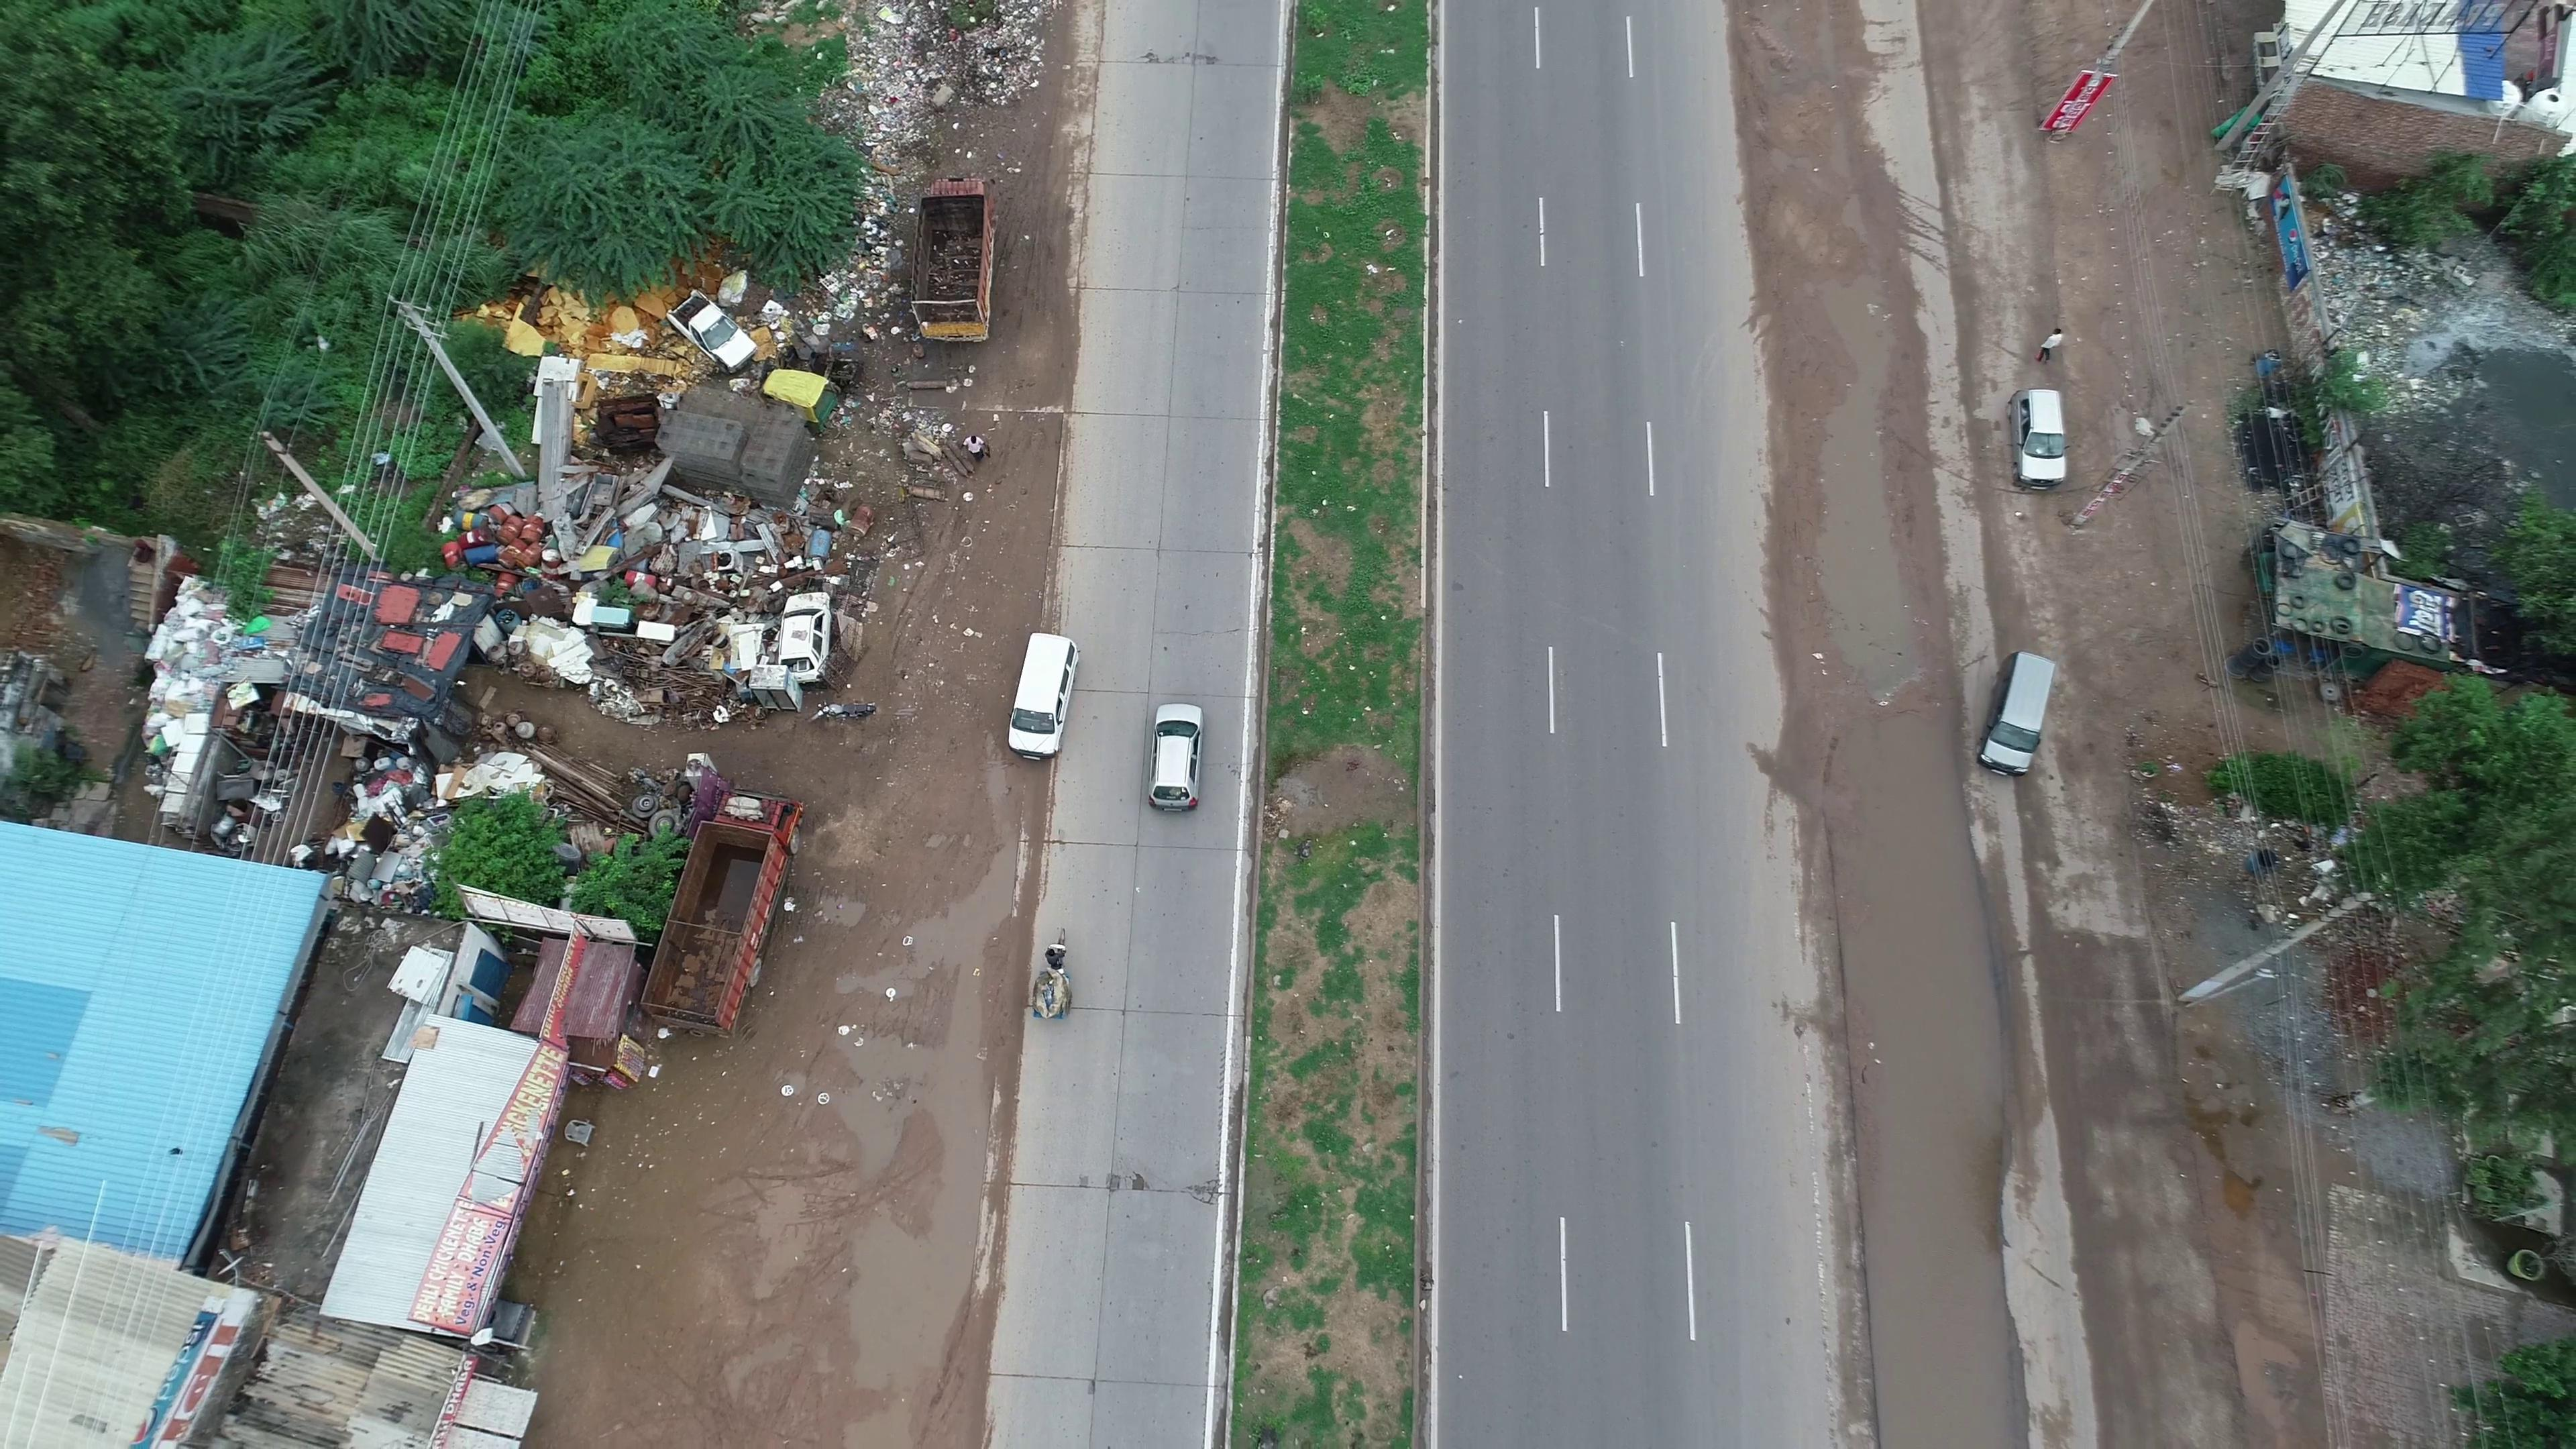Waterlogging: (1836, 824, 2031, 1444)
